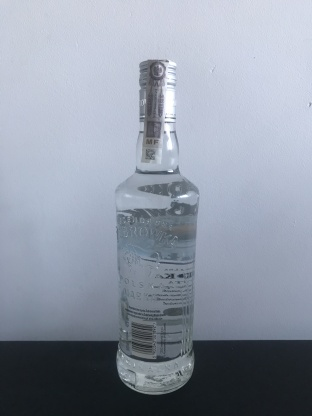nakretka: (136, 55, 178, 126)
